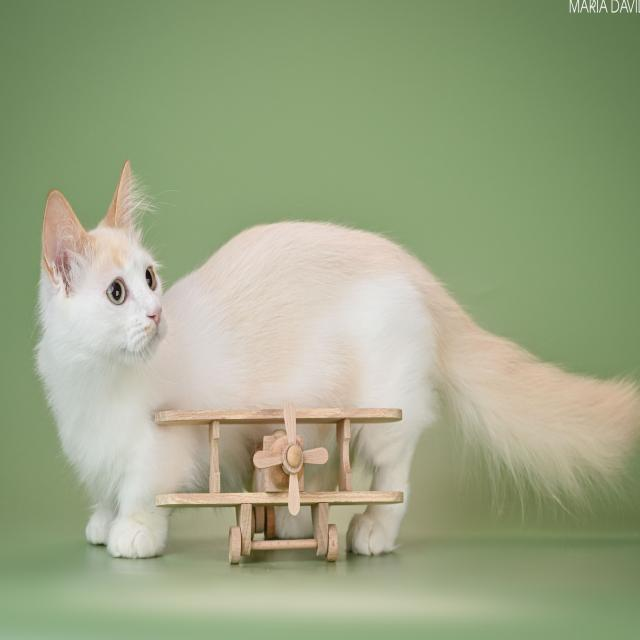Munchkin: (32, 150, 640, 566)
